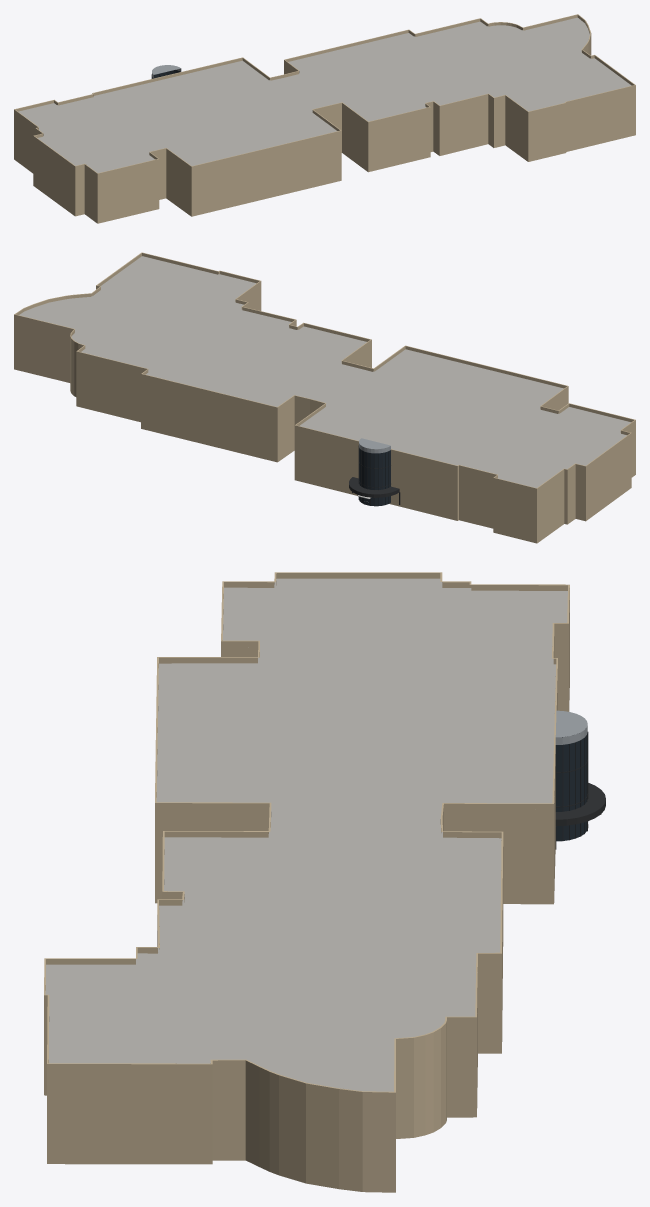
Rendered from activity_center.glb.
The picture shows the model from 3 angles, top to bottom: view 1: azimuth 30°, elevation 25°; view 2: azimuth 150°, elevation 25°; view 3: azimuth 270°, elevation 25°; orthographic projection. The views are drawn at different scales.
Parts seen in each view (by area): view 1: activity_center_Roof_Membrane, activity_center_Wall_tan; view 2: activity_center_Roof_Membrane, activity_center_Wall_tan, activity_center_Glass_dark, activity_center_Frame_Dark, activity_center_Canopy_Dark; view 3: activity_center_Roof_Membrane, activity_center_Wall_tan, activity_center_Glass_dark, activity_center_Canopy_Dark, activity_center_Frame_Dark, activity_center_Metal_Cap.
Boxes of the visible parts, box(x1,y1,x2,y2) form: activity_center_Roof_Membrane: box(18, 17, 631, 172); activity_center_Wall_tan: box(14, 14, 635, 223); activity_center_Roof_Membrane: box(19, 256, 630, 487); activity_center_Wall_tan: box(14, 252, 635, 543); activity_center_Glass_dark: box(359, 447, 390, 506); activity_center_Frame_Dark: box(358, 445, 390, 505); activity_center_Canopy_Dark: box(349, 477, 400, 504); activity_center_Roof_Membrane: box(45, 578, 567, 1091); activity_center_Wall_tan: box(44, 572, 569, 1192); activity_center_Glass_dark: box(556, 733, 587, 841); activity_center_Canopy_Dark: box(555, 783, 605, 849); activity_center_Frame_Dark: box(555, 732, 588, 840); activity_center_Metal_Cap: box(555, 710, 587, 744).
Bounding box in the file's own units: 175 × 16.81 × 79.89.
